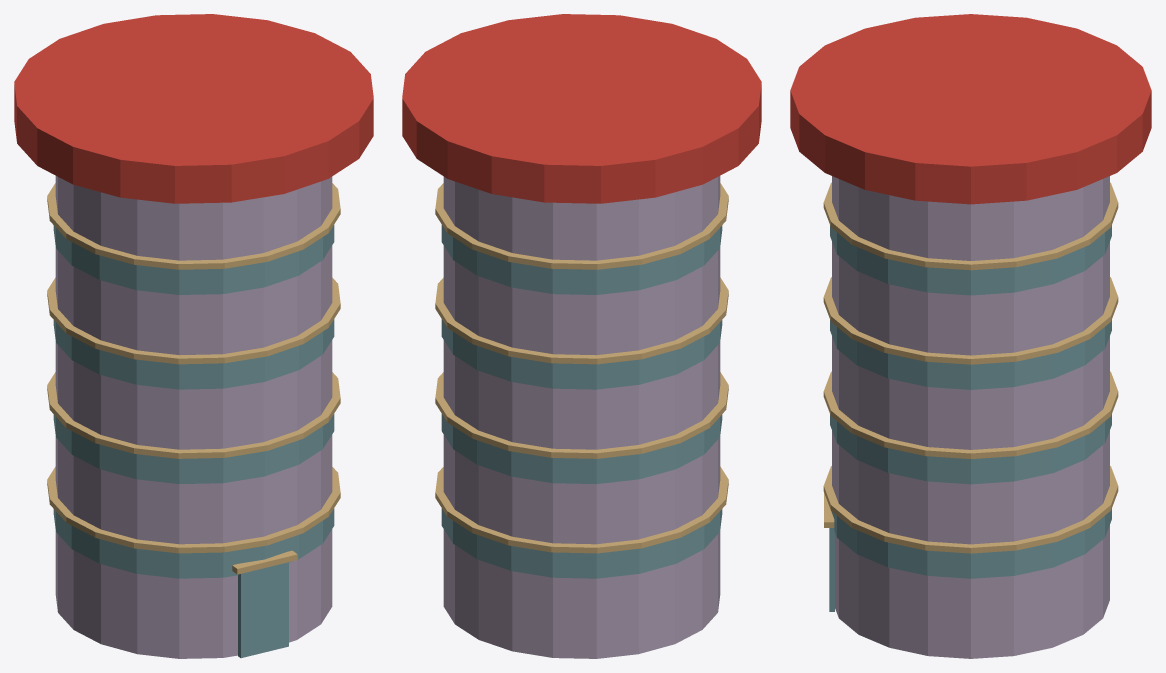
The picture shows the model from 3 angles, left to right: view 1: azimuth 30°, elevation 25°; view 2: azimuth 150°, elevation 25°; view 3: azimuth 270°, elevation 25°; orthographic projection.
Visible parts, largest first — view 1: RC-006 Saucer crown hotel batched; view 2: RC-006 Saucer crown hotel batched; view 3: RC-006 Saucer crown hotel batched.
Boxes of the visible parts, x1=… form: RC-006 Saucer crown hotel batched: x1=14, y1=14, x2=373, y2=658; RC-006 Saucer crown hotel batched: x1=402, y1=14, x2=761, y2=658; RC-006 Saucer crown hotel batched: x1=790, y1=14, x2=1151, y2=658.
Size of the model in its own units: 10.4 by 16.2 by 10.4.
